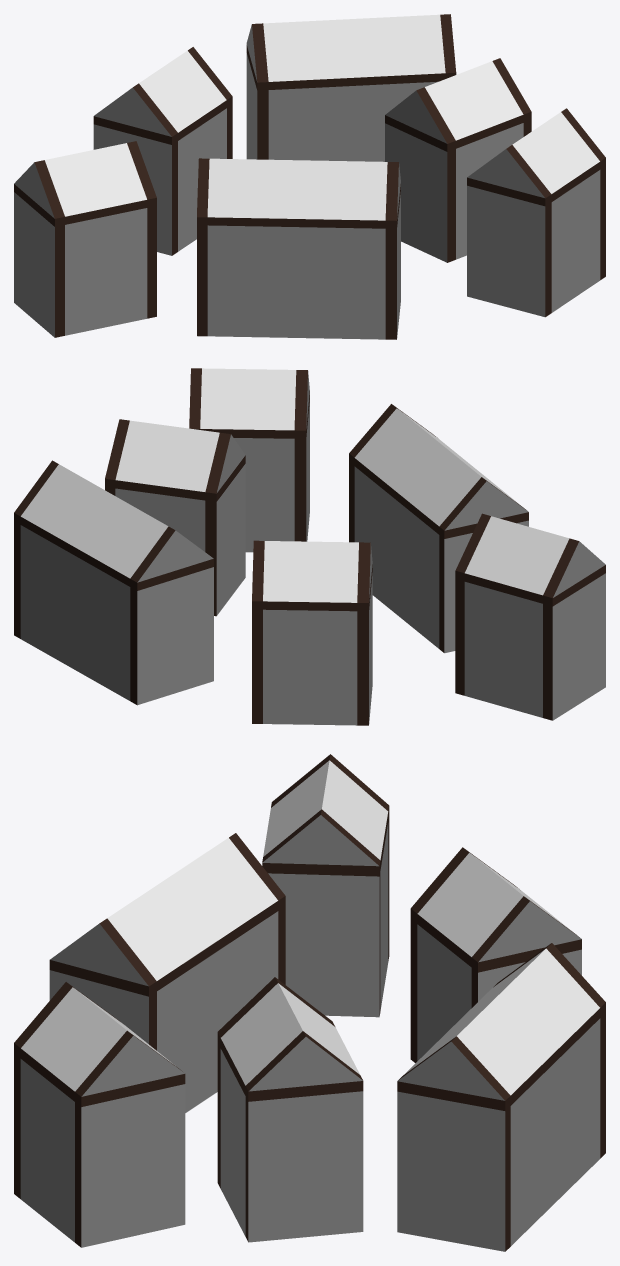
Rendered from SM_TileVillage.fbx.
3 views of the same model, one above another, from view 1: azimuth 30°, elevation 25°; view 2: azimuth 150°, elevation 25°; view 3: azimuth 270°, elevation 25° (orthographic). The views are drawn at different scales.
Visible parts, largest first — view 1: TileVillage; view 2: TileVillage; view 3: TileVillage.
Boxes of the visible parts, x1,y1,x2,y2 form: TileVillage: (14, 14, 605, 339); TileVillage: (14, 368, 605, 725); TileVillage: (14, 754, 605, 1251).
Size of the model in its own units: 374 by 117 by 313.
